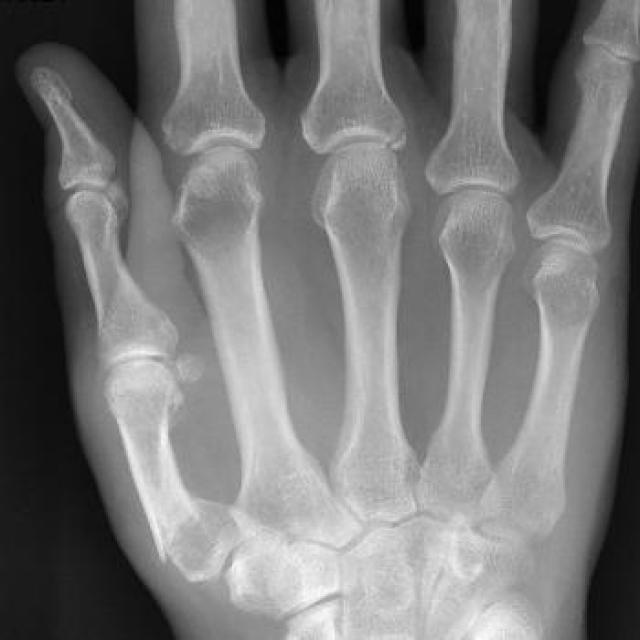Fracture: (141, 492, 214, 567)
